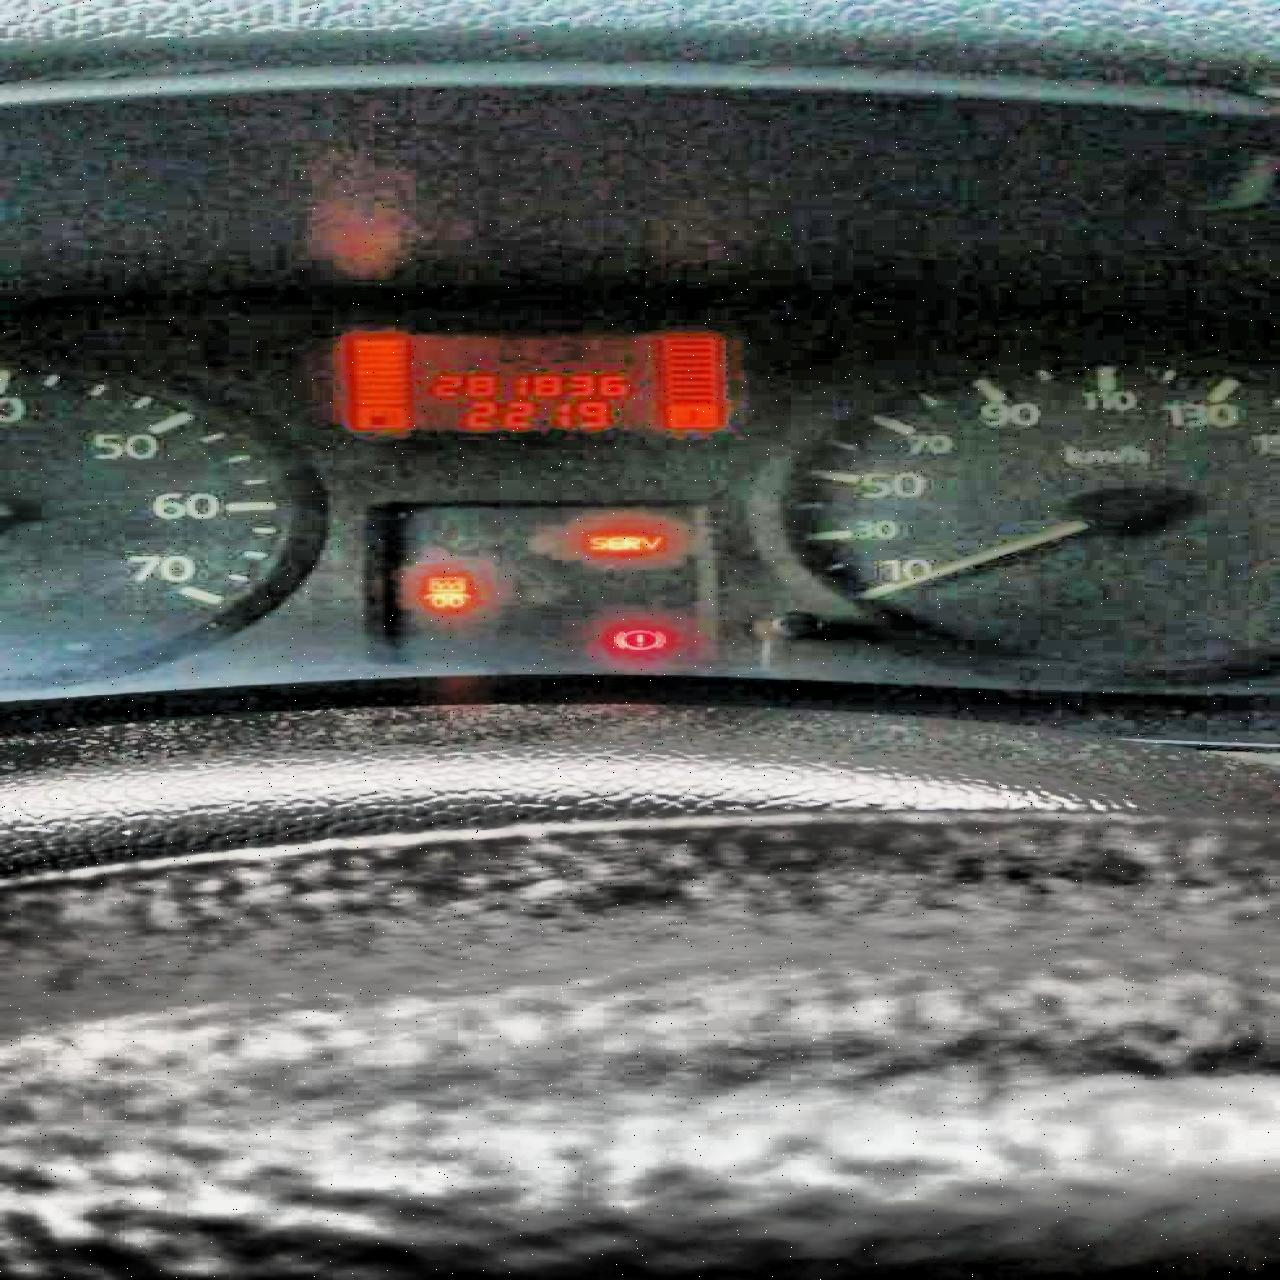1: (551, 400, 572, 425), (510, 376, 527, 395)
2: (497, 399, 533, 428), (461, 400, 495, 428), (427, 374, 461, 395)
3: (565, 374, 593, 395)
6: (595, 375, 627, 395)
8: (527, 374, 559, 395), (463, 375, 493, 396)
9: (572, 400, 606, 428)
odometer: (309, 324, 755, 436)
